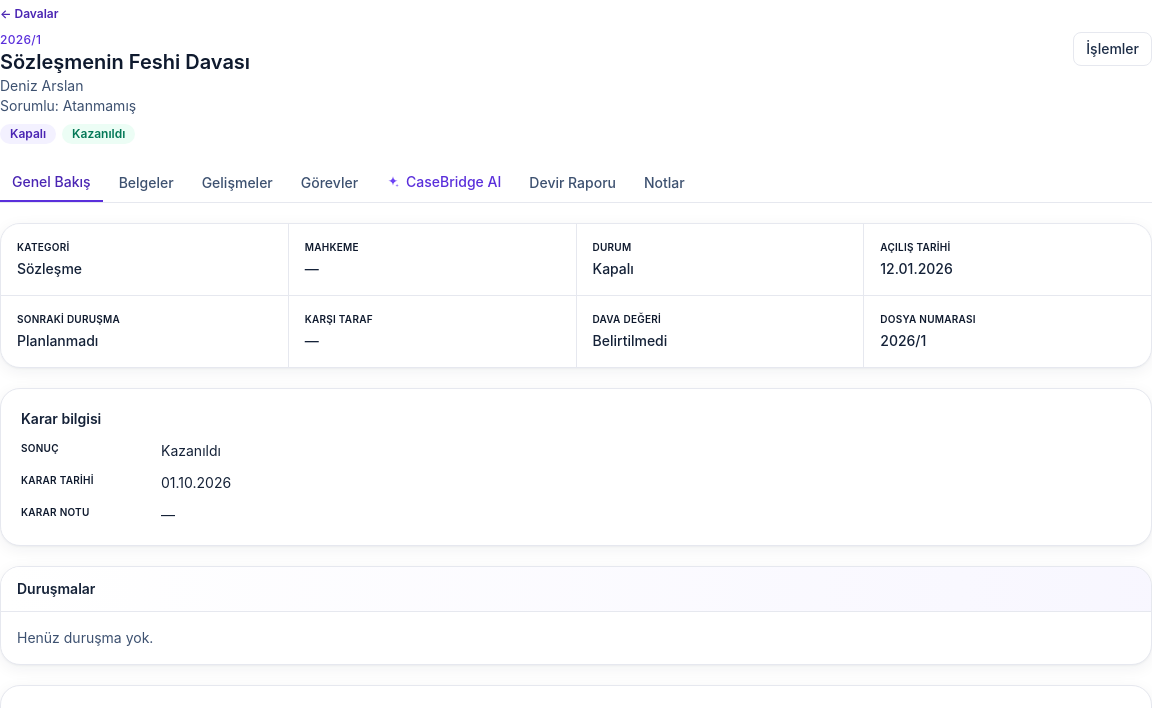
Test: Yeniden aç › does nothing when cancelled
expect the heading "Sözleşmenin Feshi Davası" is shown: met, box x1=0 y1=48 x2=250 y2=76
Step 1. Click the button "İşlemler" → (1113, 49), box x1=1073 y1=32 x2=1151 y2=66
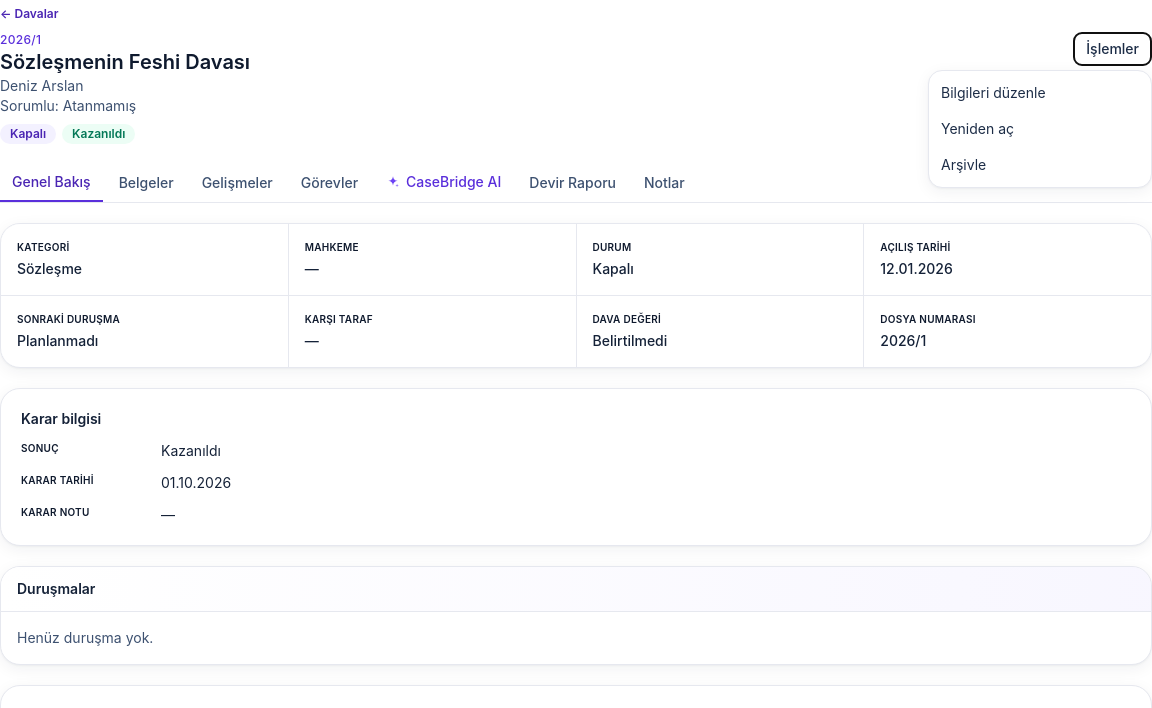
Step 2. Click the menu item "Yeniden aç" → (1040, 129), box x1=929 y1=111 x2=1151 y2=147
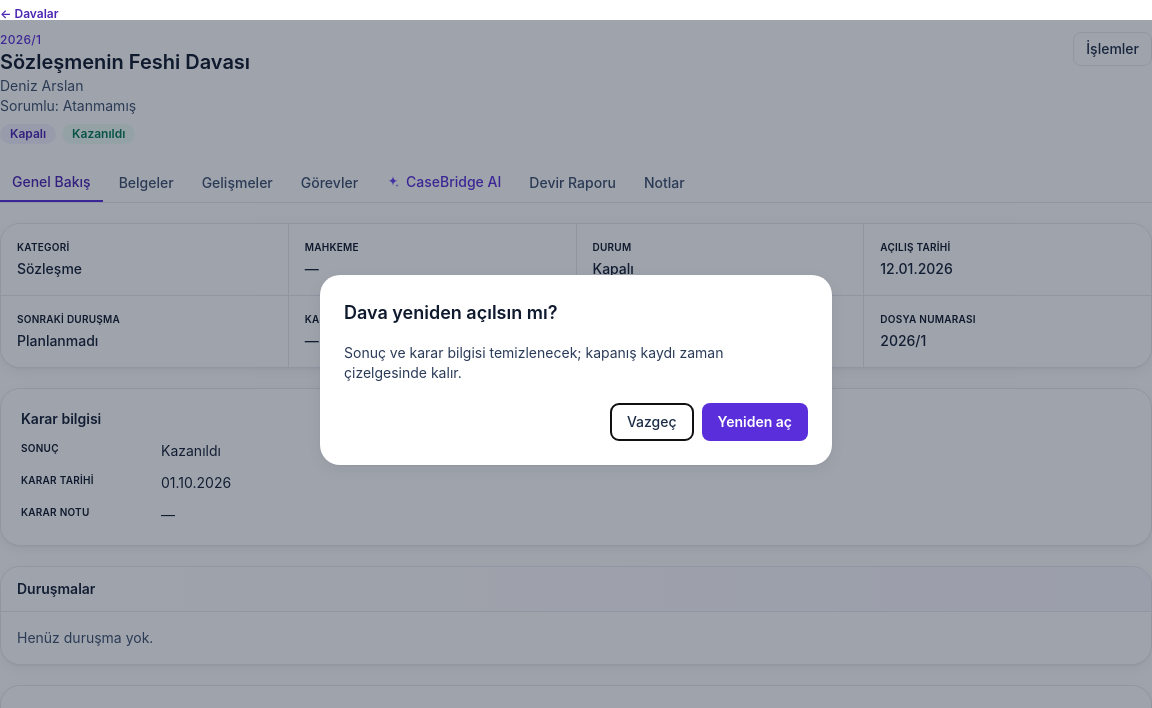
Step 3. Click the button "Vazgeç" → (652, 422), box x1=610 y1=403 x2=694 y2=441
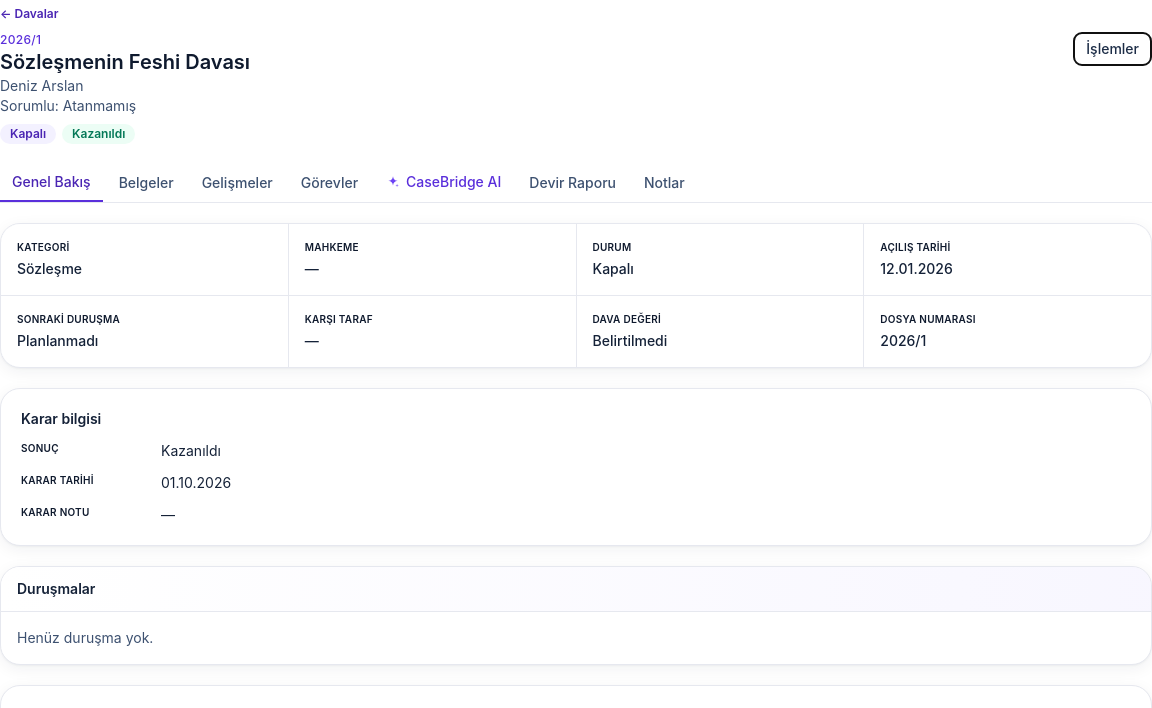
expect the dialog is gone: met
